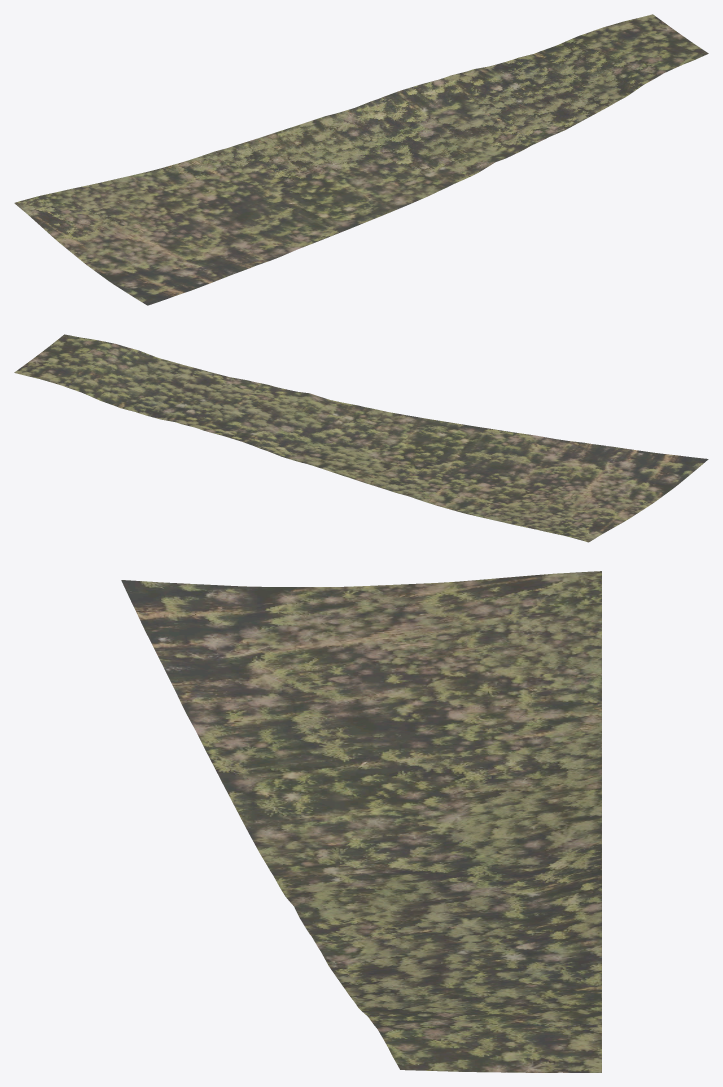
The model's file is CM_Terrain_24493326_6813650.fbx.
3 views of the same model, one above another, from view 1: azimuth 30°, elevation 25°; view 2: azimuth 150°, elevation 25°; view 3: azimuth 270°, elevation 25° (orthographic). The views are drawn at different scales.
Visible parts, largest first — view 1: CM_Terrain_24493326_6813650_LOD0; view 2: CM_Terrain_24493326_6813650_LOD0; view 3: CM_Terrain_24493326_6813650_LOD0.
Boxes of the visible parts, x1,y1,x2,y2 form: CM_Terrain_24493326_6813650_LOD0: [14, 14, 708, 305]; CM_Terrain_24493326_6813650_LOD0: [14, 334, 708, 542]; CM_Terrain_24493326_6813650_LOD0: [121, 571, 601, 1072].
Size of what is drawn, in the model's own units: 205 by 13.27 by 74.18.
